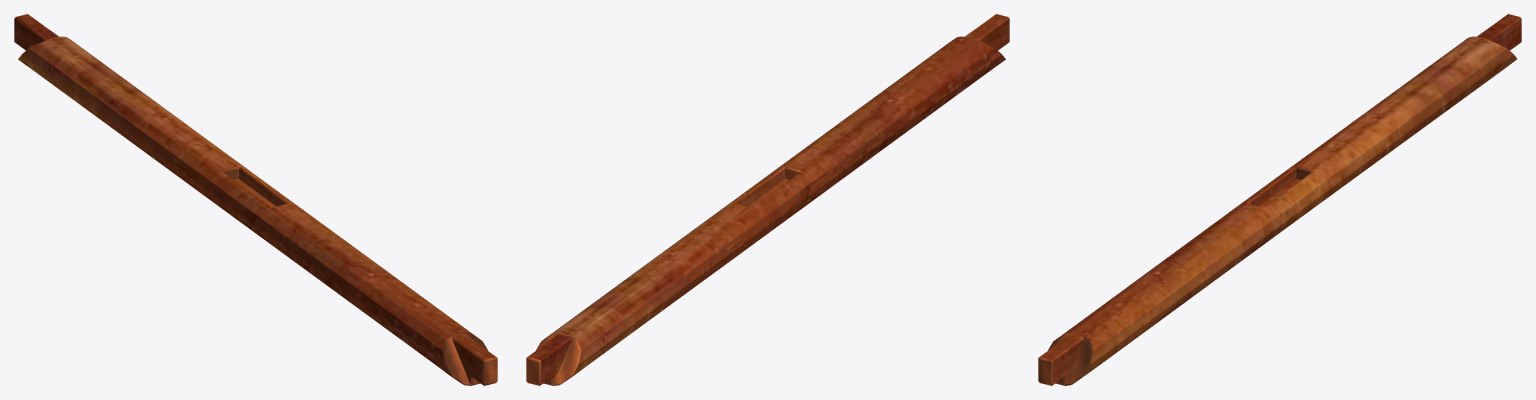
The model's file is SJ_J_cehengzhang_1_008.FBX.
3 views of the same model, side by side, from view 1: azimuth 30°, elevation 25°; view 2: azimuth 150°, elevation 25°; view 3: azimuth 330°, elevation 25° (orthographic).
Visible parts, largest first — view 1: SJ_J_cehengzhang_1_008; view 2: SJ_J_cehengzhang_1_008; view 3: SJ_J_cehengzhang_1_008.
Boxes of the visible parts, box(x1,y1,x2,y2) form: SJ_J_cehengzhang_1_008: box(14, 14, 497, 385); SJ_J_cehengzhang_1_008: box(526, 14, 1009, 385); SJ_J_cehengzhang_1_008: box(1038, 14, 1521, 385).
Bounding box in the file's own units: 2 × 1.5 × 36.64.
2 materials, 2 textured.
